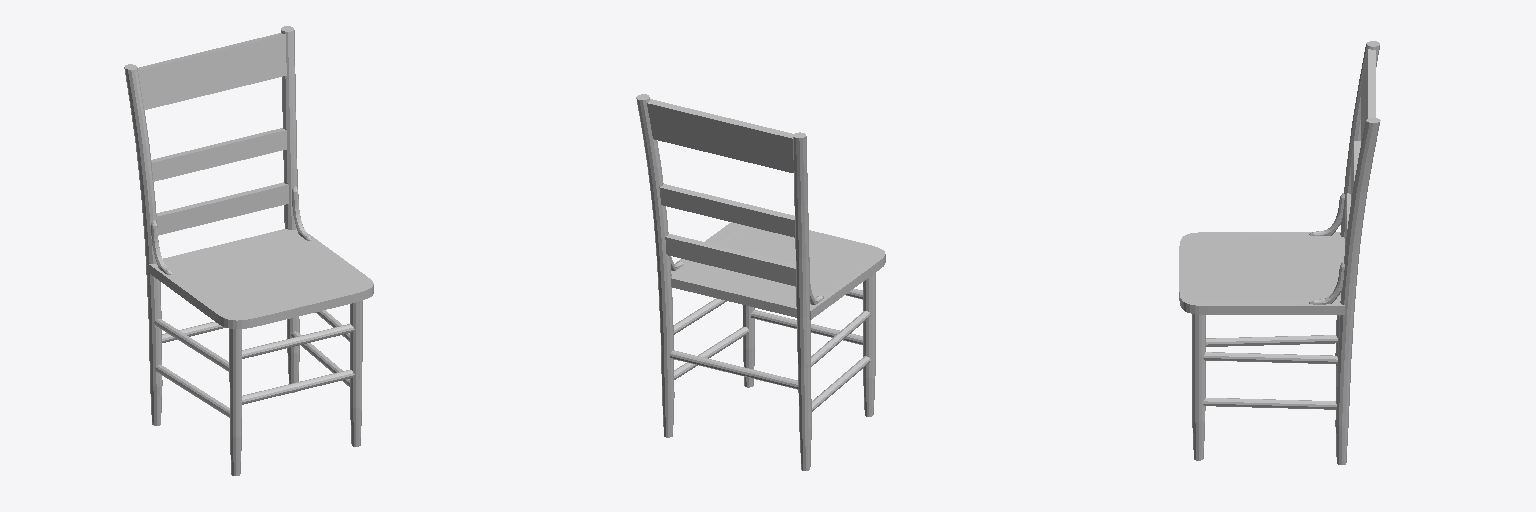
The model's file is chair.obj.
3 renders of one model, left to right at view 1: azimuth 30°, elevation 25°; view 2: azimuth 150°, elevation 25°; view 3: azimuth 270°, elevation 25°, orthographic.
Parts seen in each view (by area): view 1: painted_wooden_chair_02; view 2: painted_wooden_chair_02; view 3: painted_wooden_chair_02.
Boxes of the visible parts, x1=… form: painted_wooden_chair_02: x1=124, y1=26, x2=373, y2=475; painted_wooden_chair_02: x1=636, y1=94, x2=885, y2=470; painted_wooden_chair_02: x1=1179, y1=41, x2=1380, y2=464.
Size of the model in its own units: 0.6394 by 1.26 by 0.6621.